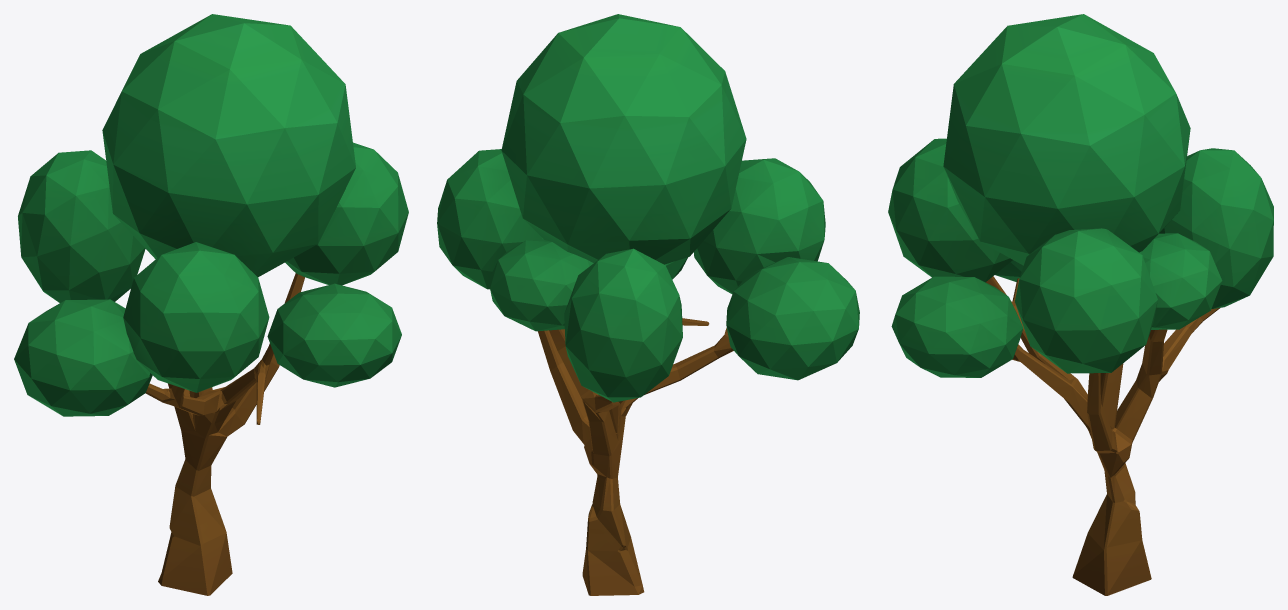
The model's file is tree_cluster.glb.
3 views of the same model, side by side, from view 1: azimuth 30°, elevation 25°; view 2: azimuth 150°, elevation 25°; view 3: azimuth 270°, elevation 25° (orthographic). The views are drawn at different scales.
Visible parts, largest first — view 1: Tree_10_AA; view 2: Tree_10_AA; view 3: Tree_10_AA.
Part boxes in pixels (x1,y1,x2,y2): Tree_10_AA: (14, 14, 408, 595); Tree_10_AA: (437, 14, 859, 595); Tree_10_AA: (888, 14, 1273, 595).
Size of the model in its own units: 2.3 by 3.13 by 1.94.
Materials: 1 (1 with a texture image).
